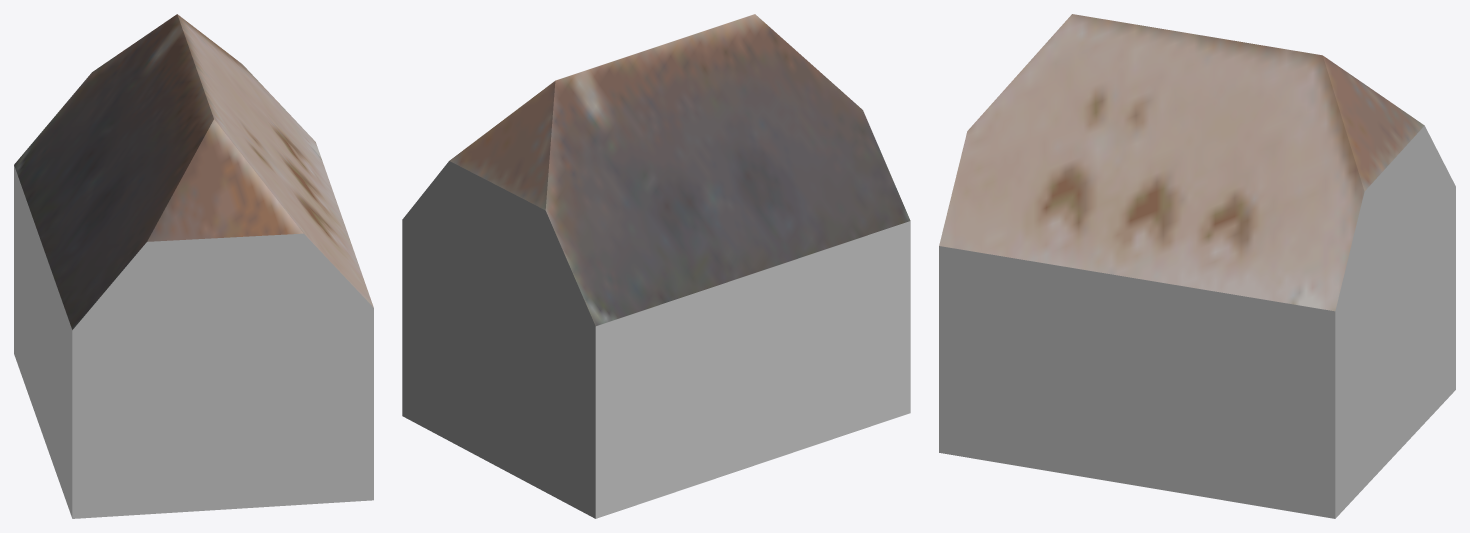
Rendered from DEBW_0010007Txfd.gltf.
3 renders of one model, left to right at view 1: azimuth 30°, elevation 25°; view 2: azimuth 150°, elevation 25°; view 3: azimuth 270°, elevation 25°, orthographic. The views are drawn at different scales.
Visible parts, largest first — view 1: Z_UP; view 2: Z_UP; view 3: Z_UP.
Part boxes in pixels (left/top/right/bottom): Z_UP: left=14, top=14, right=373, bottom=518; Z_UP: left=402, top=14, right=910, bottom=518; Z_UP: left=939, top=14, right=1455, bottom=518.
Size of the model in its own units: 14.12 by 13.1 by 15.82.
2 materials, 1 textured.
